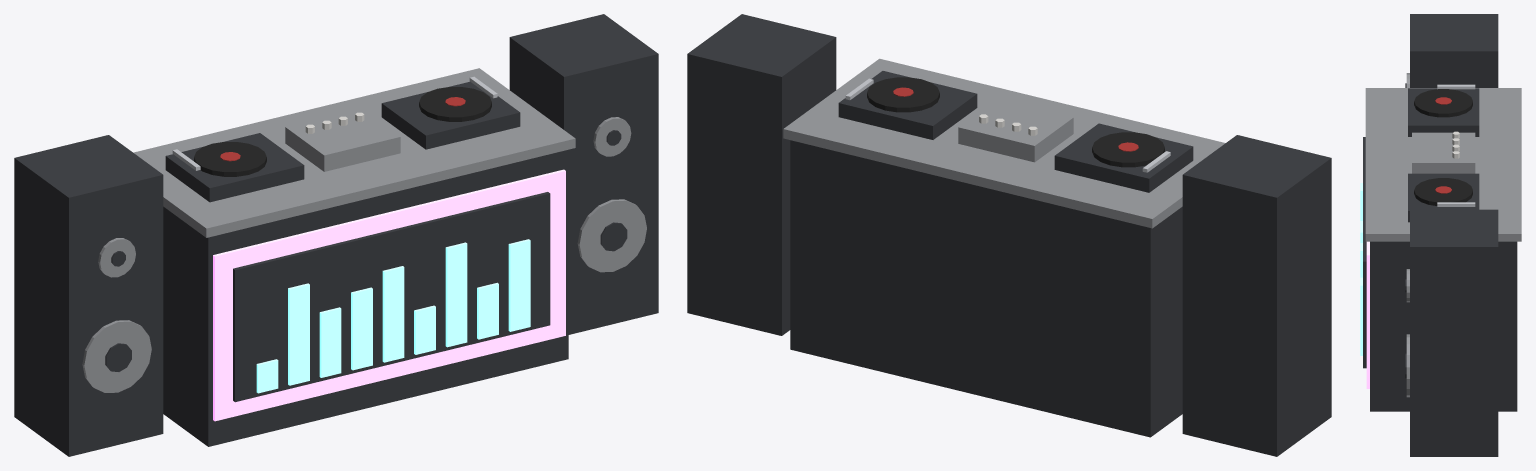
File: dj_booth.glb
3 views of the same model, side by side, from view 1: azimuth 30°, elevation 25°; view 2: azimuth 150°, elevation 25°; view 3: azimuth 270°, elevation 25° (orthographic). The views are drawn at different scales.
Visible parts, largest first — view 1: dj_booth; view 2: dj_booth; view 3: dj_booth.
Part boxes in pixels (box(x1,y1,x2,y2)): dj_booth: box(14, 14, 658, 456); dj_booth: box(687, 14, 1331, 456); dj_booth: box(1360, 14, 1521, 456).
Bounding box in the file's own units: 2.62 × 1.1 × 0.765.
